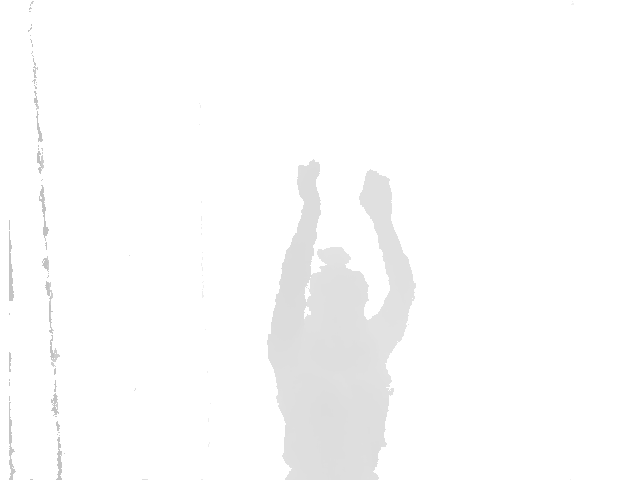hand: (360, 169, 395, 222), (295, 159, 324, 211)
head: (308, 246, 372, 323)
person: (265, 159, 418, 480)
